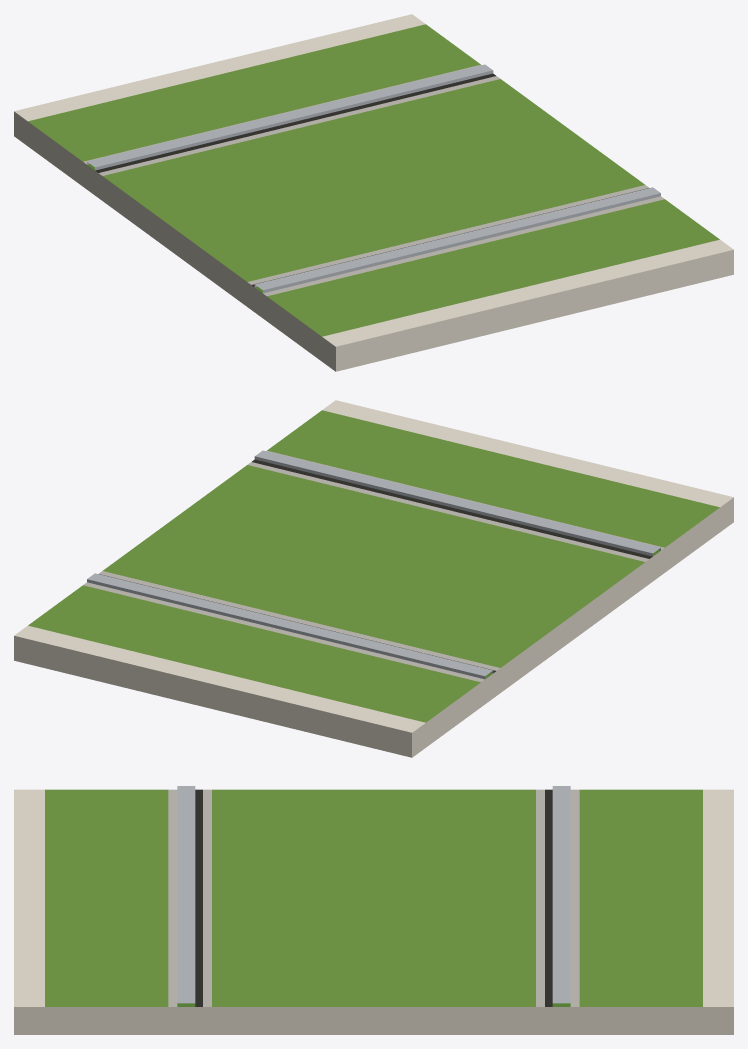
Rendered from tram_track.glb.
3 views of the same model, one above another, from view 1: azimuth 30°, elevation 25°; view 2: azimuth 150°, elevation 25°; view 3: azimuth 270°, elevation 25° (orthographic). The views are drawn at different scales.
Visible parts, largest first — view 1: track; view 2: track; view 3: track.
Boxes of the visible parts, box(x1,y1,x2,y2) form: track: box(14, 14, 733, 371); track: box(14, 400, 733, 757); track: box(14, 786, 733, 1034).
Size of the model in its own units: 2 by 0.135 by 2.8.
